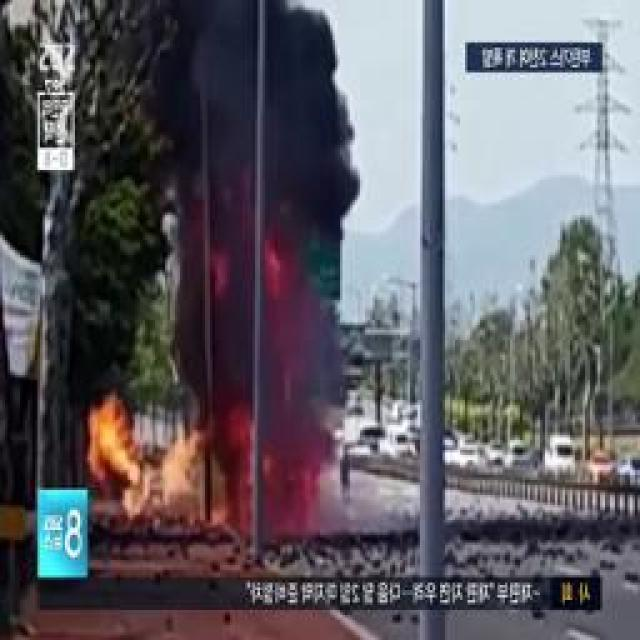Fire: (80, 411, 198, 519)
